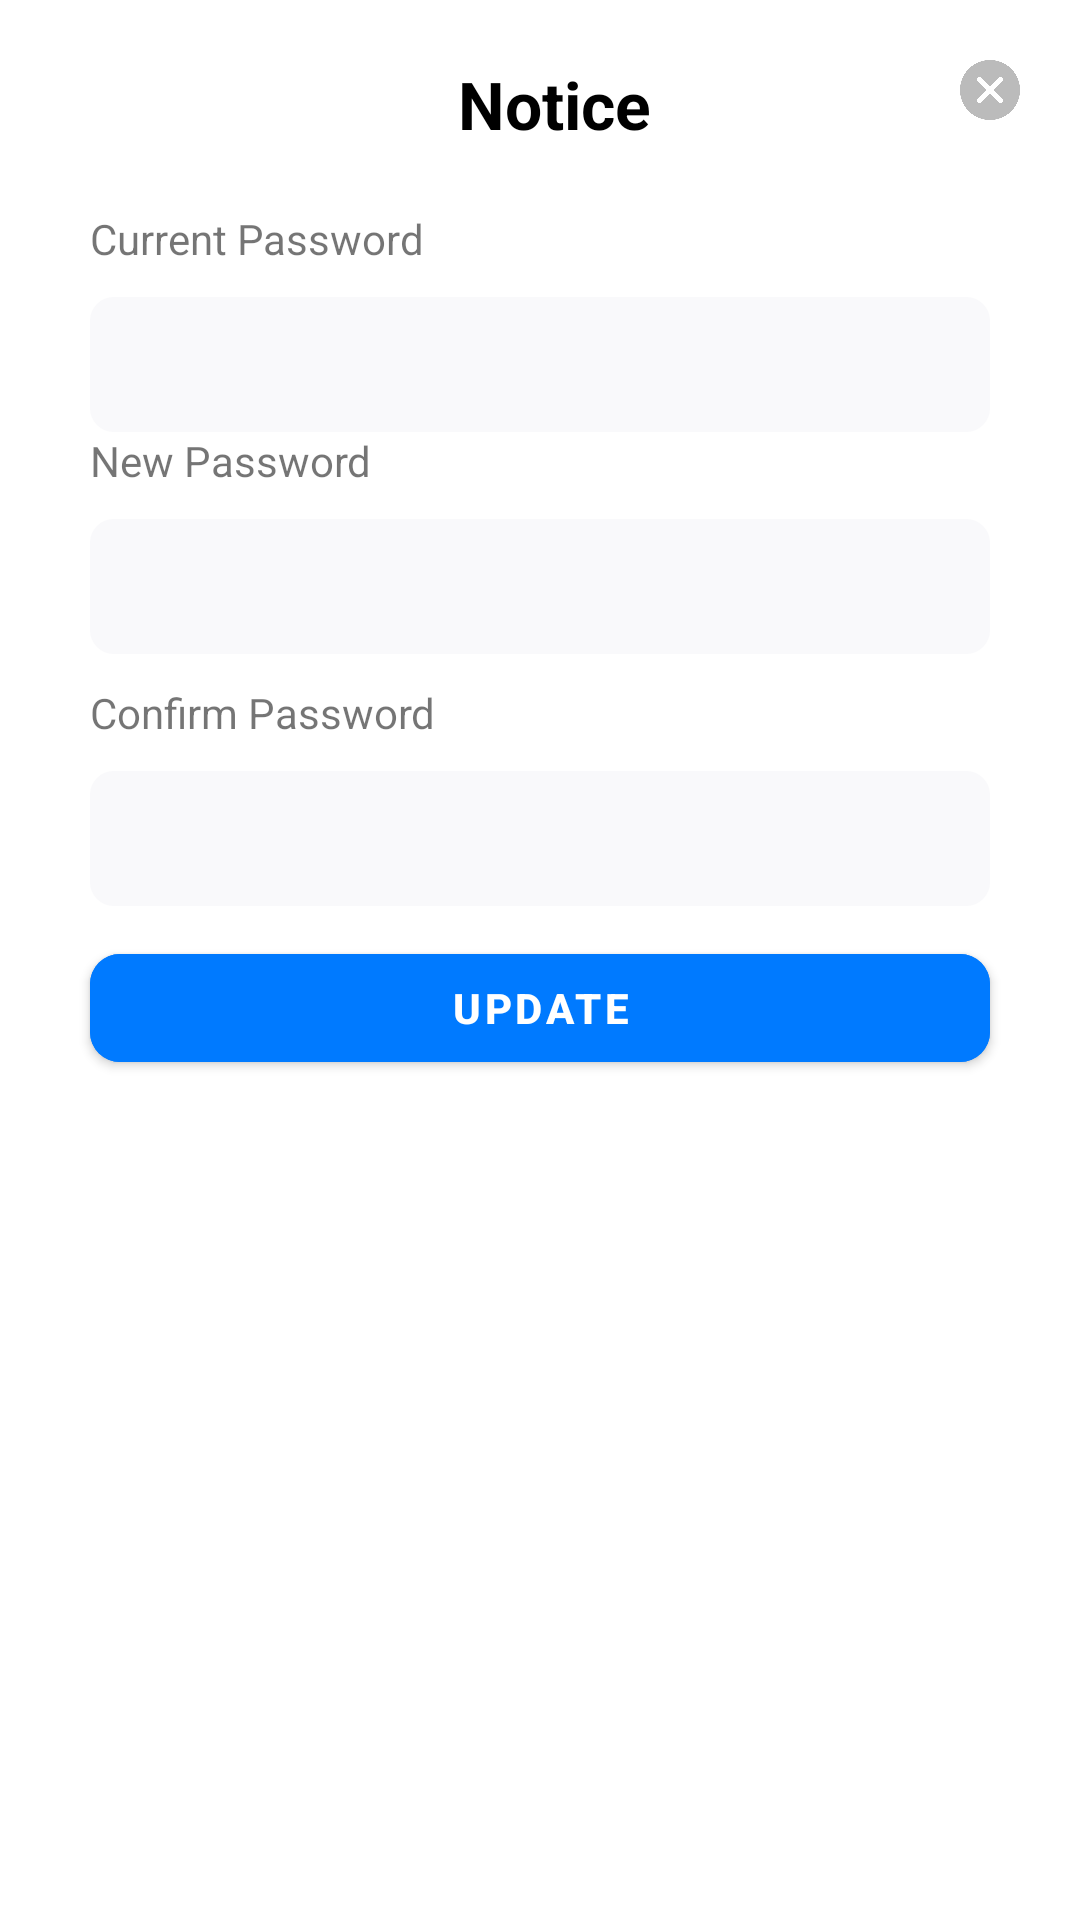

Where to tap for icons on this 1080px x 1920px app screen, as point (x, y):
cancel: point (990, 90)
